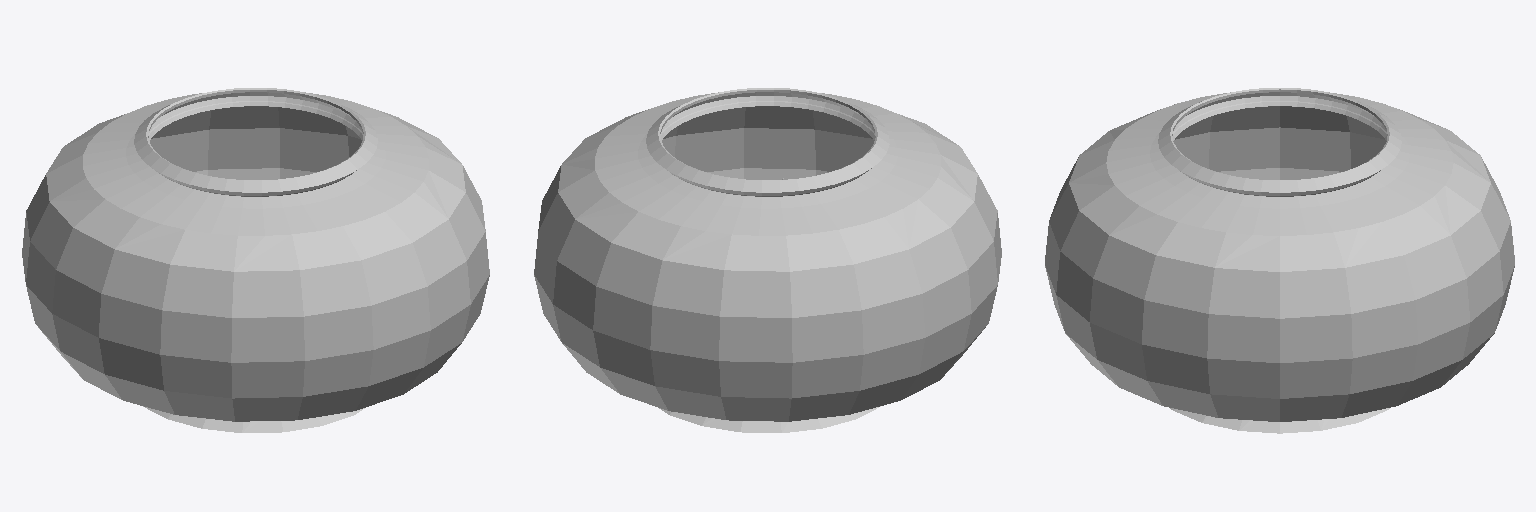
File: FishForSketchFab.obj
3 renders of one model, left to right at view 1: azimuth 30°, elevation 25°; view 2: azimuth 150°, elevation 25°; view 3: azimuth 270°, elevation 25°, orthographic.
Parts seen in each view (by area): view 1: Bowl; view 2: Bowl; view 3: Bowl.
Part boxes in pixels (bbox=[...]): Bowl: bbox=[22, 88, 489, 432]; Bowl: bbox=[534, 88, 1001, 432]; Bowl: bbox=[1045, 88, 1514, 433].
Bounding box in the file's own units: 33.68 × 19.27 × 33.68.